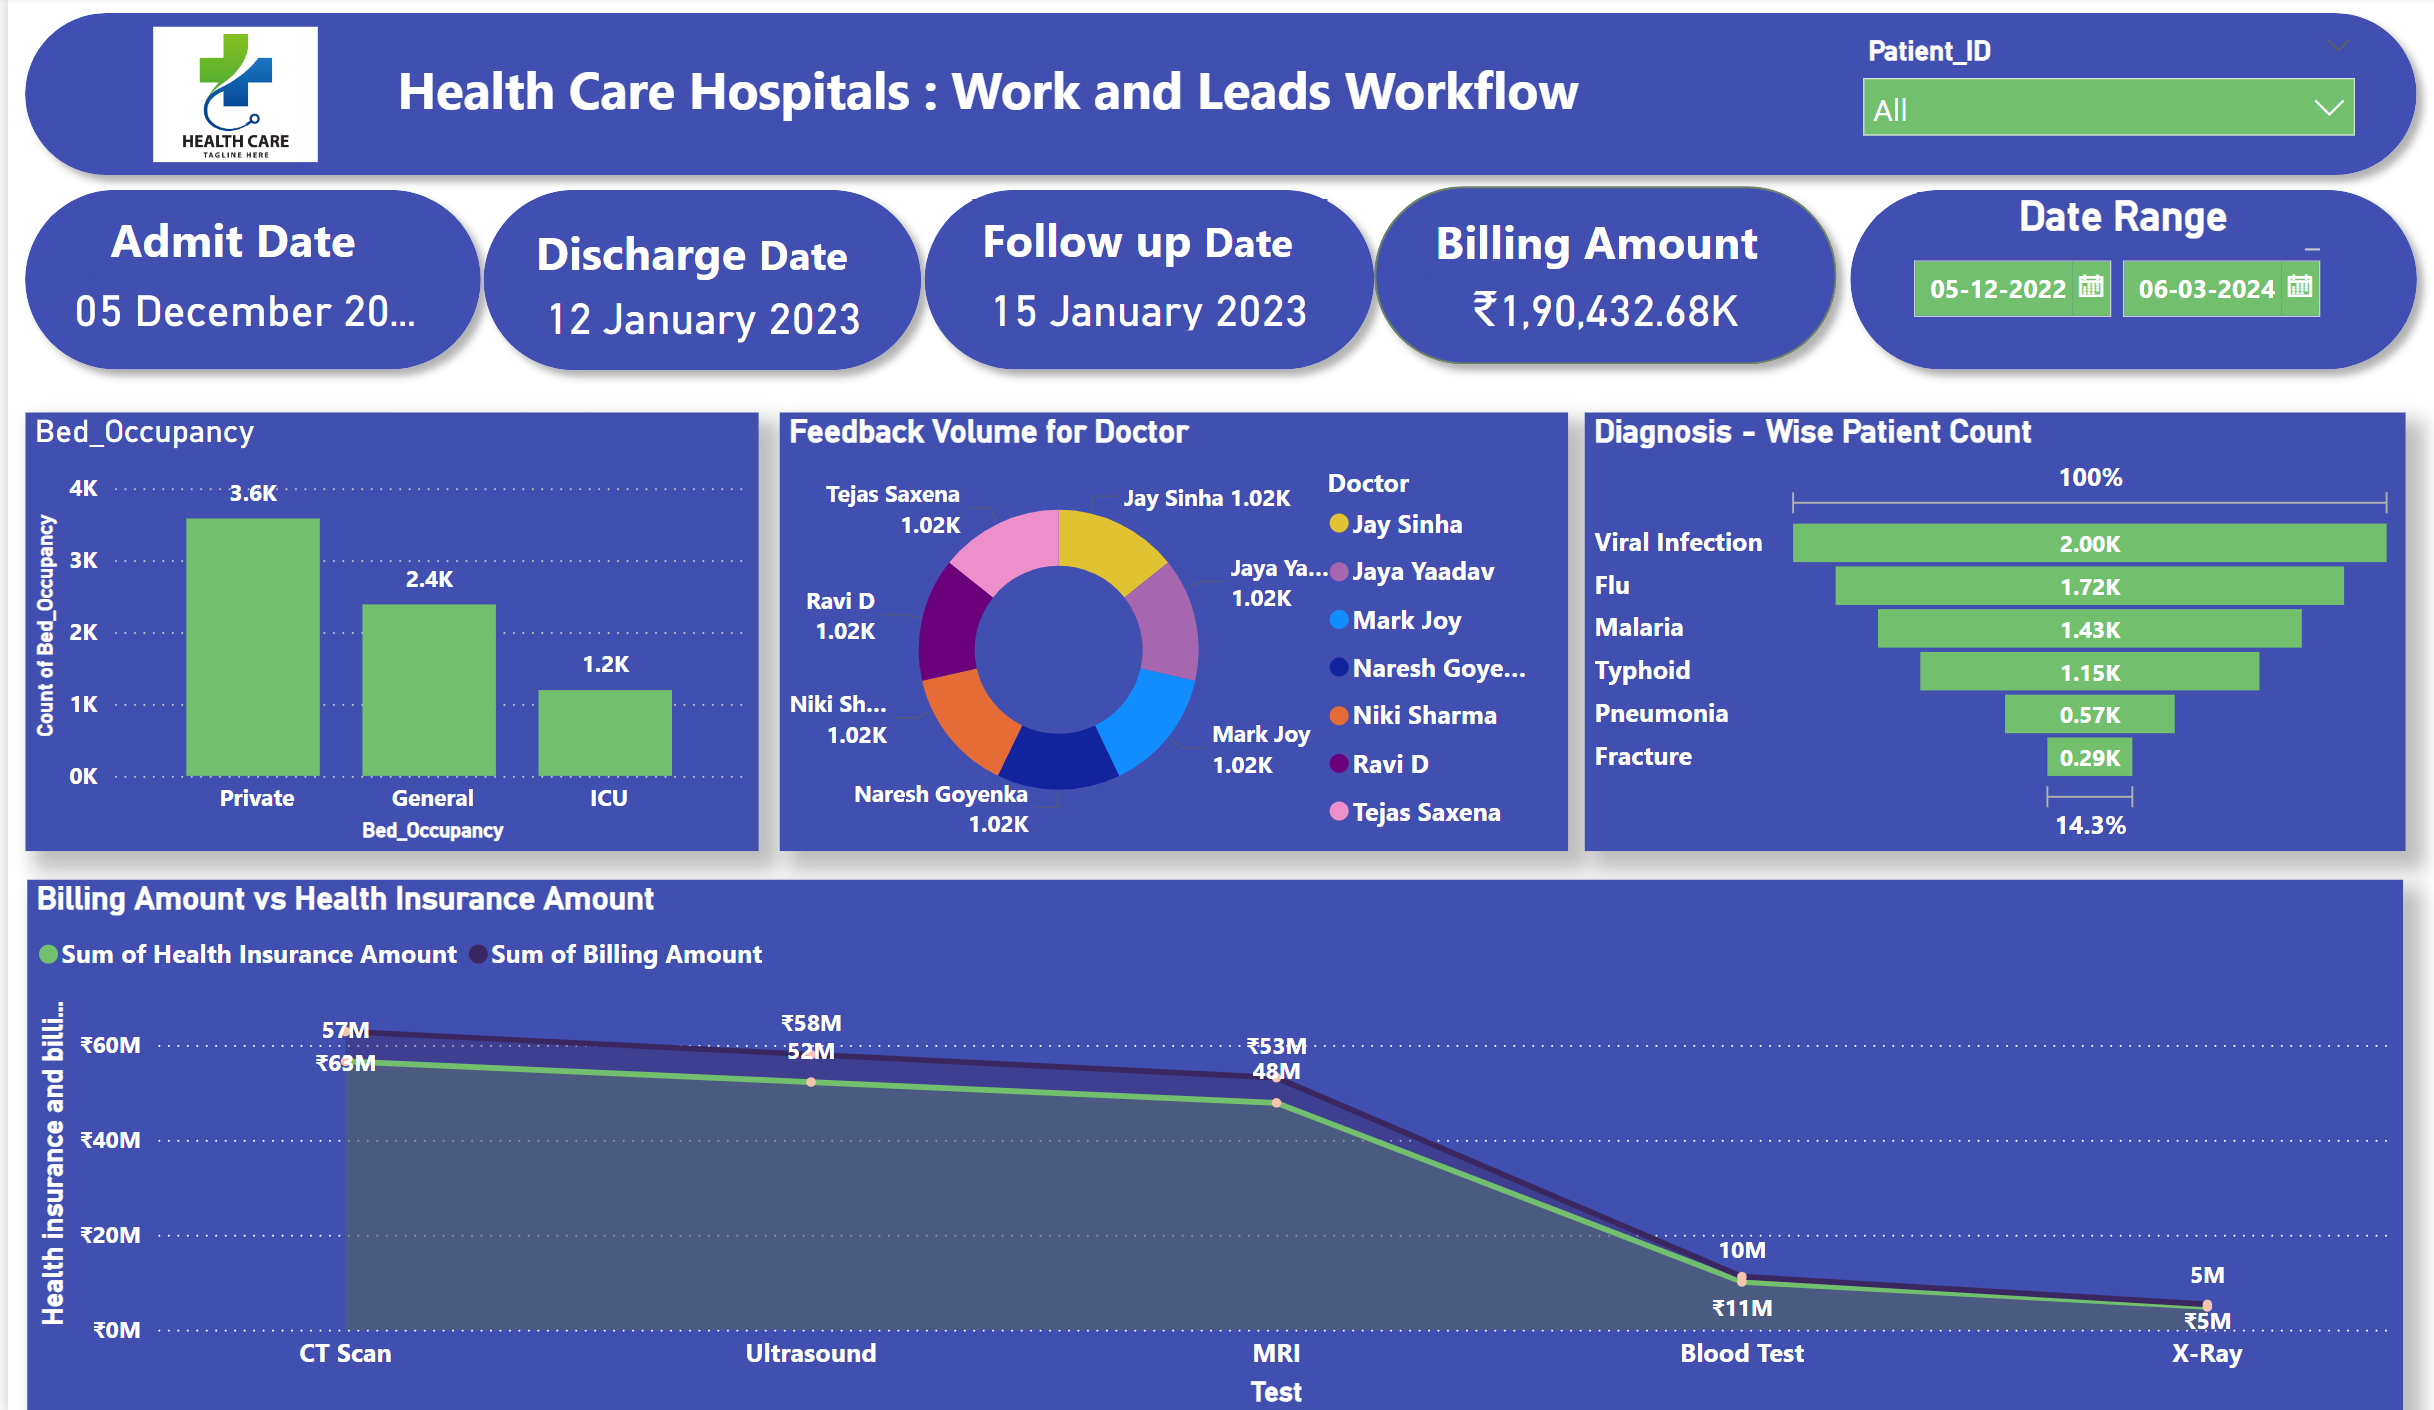

Layout of this report page (visuals, bound fields, positions):
{"tool":"powerbi","page":{"name":"Page 1","canvas":[1280,750],"ordinal":0},"visuals":[{"type":"shape","box":[0,0,1280,103.5],"z":0},{"type":"shape","box":[0,93.6,258.5,112.8],"z":1000},{"type":"shape","box":[242.1,93.5,249,113.2],"z":2000},{"type":"shape","box":[474.5,93.6,255.3,112.8],"z":3000},{"type":"shape","box":[711.8,91.9,261.9,111.9],"z":4000},{"type":"shape","box":[962.8,93.6,317,112.8],"z":5000},{"type":"image","box":[4.3,10.8,231.2,81.7],"z":6000},{"type":"textbox","box":[42.3,107.3,157.5,42.3],"z":7000},{"type":"slicer","fields":{"Values":["Sheet1.Patient_ID"]},"box":[968.4,14.8,279.9,73.9],"z":8000},{"type":"card","fields":{"Values":["Sheet1.Admit_Date"]},"box":[25.6,149.6,197.8,31.5],"z":9000},{"type":"textbox","box":[200,25.5,718.1,52.1],"z":10000},{"type":"textbox","box":[273.6,113.2,187,52.2],"z":11000},{"type":"card","fields":{"Values":["Sheet1.Discharge_Date"]},"box":[273.6,151.5,187,36.4],"z":12000},{"type":"textbox","box":[508.5,107.4,187.2,42.6],"z":13000},{"type":"card","fields":{"Values":["Sheet1.Followup Date"]},"box":[498.9,150,206.4,31.9],"z":14000},{"type":"textbox","box":[747.7,107.7,189,42.2],"z":15000},{"type":"card","fields":{"Values":["Sheet1.Billing Amount"]},"box":[747.9,150,189.4,31.9],"z":16000},{"type":"slicer","fields":{"Values":["Sheet1.Admit_Date"]},"box":[992.7,128.8,256.6,67.6],"z":17000},{"type":"columnChart","title":"Bed_Occupancy","fields":{"Category":["Sheet1.Bed_Occupancy"],"Y":["Sheet1.Bed_Occupancy"]},"box":[9.7,219.4,387.1,231.2],"z":18000},{"type":"donutChart","title":"Feedback Volume for Doctor","fields":{"Category":["Sheet1.Doctor"],"Y":["Sheet1.Doctor"]},"box":[407.7,219.7,416.1,231.3],"z":19000},{"type":"funnel","title":"Diagnosis - Wise Patient Count","fields":{"Category":["Sheet1.Diagnosis"],"Y":["Sheet1.Diagnosis"]},"box":[832.2,219.7,433,231.3],"z":20000},{"type":"lineChart","title":" Billing Amount vs Health Insurance Amount","fields":{"Y":["Sheet1.Health Insurance Amount","Sheet1.Billing Amount"],"Category":["Sheet1.Test"]},"box":[10.6,466.8,1253.6,283],"z":21000},{"type":"textbox","title":"Date Range ","box":[1007.5,103.5,217.6,35.9],"z":21001}]}

Visuals, with their boxes in screenshot pixels (x1, y1, x2, y2), scaled from the page's 1280x750 canvas onto the 2434x1410 screenshot:
shape: pyautogui.locateOnScreen(0, 0, 2433, 195)
shape: pyautogui.locateOnScreen(0, 176, 492, 388)
shape: pyautogui.locateOnScreen(460, 176, 934, 389)
shape: pyautogui.locateOnScreen(902, 176, 1388, 388)
shape: pyautogui.locateOnScreen(1354, 173, 1852, 383)
shape: pyautogui.locateOnScreen(1831, 176, 2433, 388)
image: pyautogui.locateOnScreen(8, 20, 448, 174)
textbox: pyautogui.locateOnScreen(80, 202, 380, 281)
slicer - Sheet1.Patient_ID: pyautogui.locateOnScreen(1841, 28, 2374, 167)
card - Sheet1.Admit_Date: pyautogui.locateOnScreen(49, 281, 425, 340)
textbox: pyautogui.locateOnScreen(380, 48, 1746, 146)
textbox: pyautogui.locateOnScreen(520, 213, 876, 311)
card - Sheet1.Discharge_Date: pyautogui.locateOnScreen(520, 285, 876, 353)
textbox: pyautogui.locateOnScreen(967, 202, 1323, 282)
card - Sheet1.Followup Date: pyautogui.locateOnScreen(949, 282, 1341, 342)
textbox: pyautogui.locateOnScreen(1422, 202, 1781, 282)
card - Sheet1.Billing Amount: pyautogui.locateOnScreen(1422, 282, 1782, 342)
slicer - Sheet1.Admit_Date: pyautogui.locateOnScreen(1888, 242, 2376, 369)
"Bed_Occupancy" columnChart: pyautogui.locateOnScreen(18, 412, 755, 847)
"Feedback Volume for Doctor" donutChart: pyautogui.locateOnScreen(775, 413, 1567, 848)
"Diagnosis - Wise Patient Count" funnel: pyautogui.locateOnScreen(1582, 413, 2406, 848)
" Billing Amount vs Health Insurance Amount" lineChart: pyautogui.locateOnScreen(20, 878, 2404, 1409)
"Date Range " textbox: pyautogui.locateOnScreen(1916, 195, 2330, 262)
